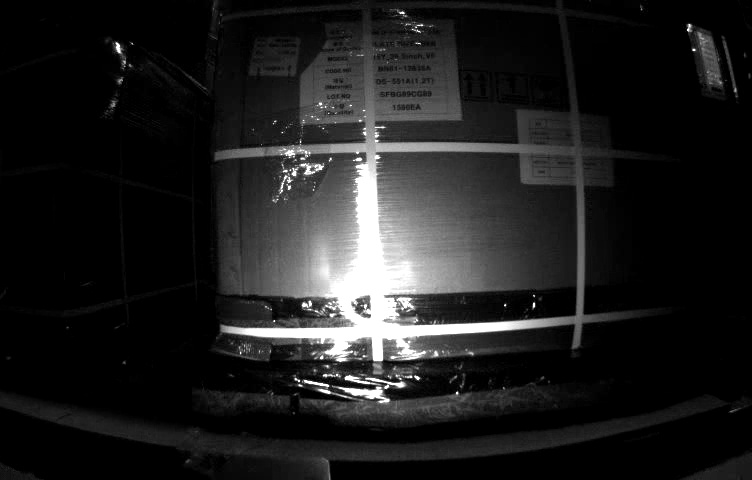True Barcode: (249, 37, 300, 77)
